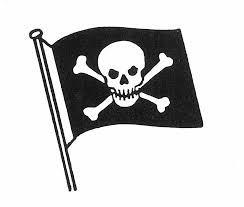Jolly Roger Flag: (53, 22, 207, 143)
